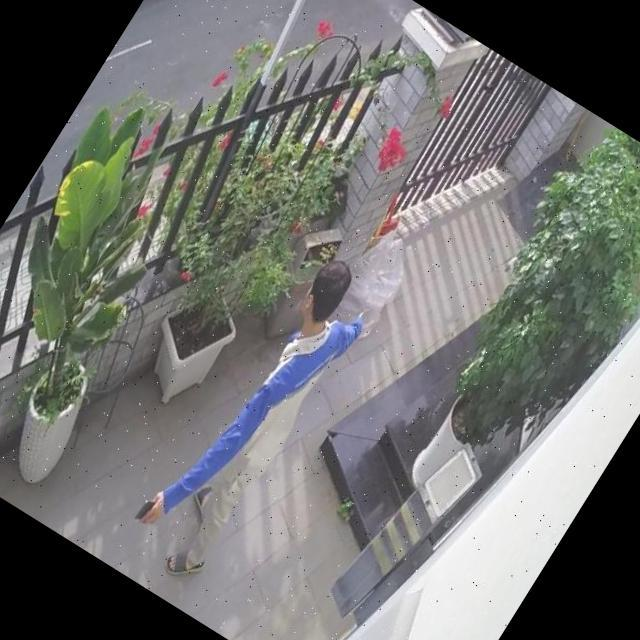person: (116, 242, 382, 592)
